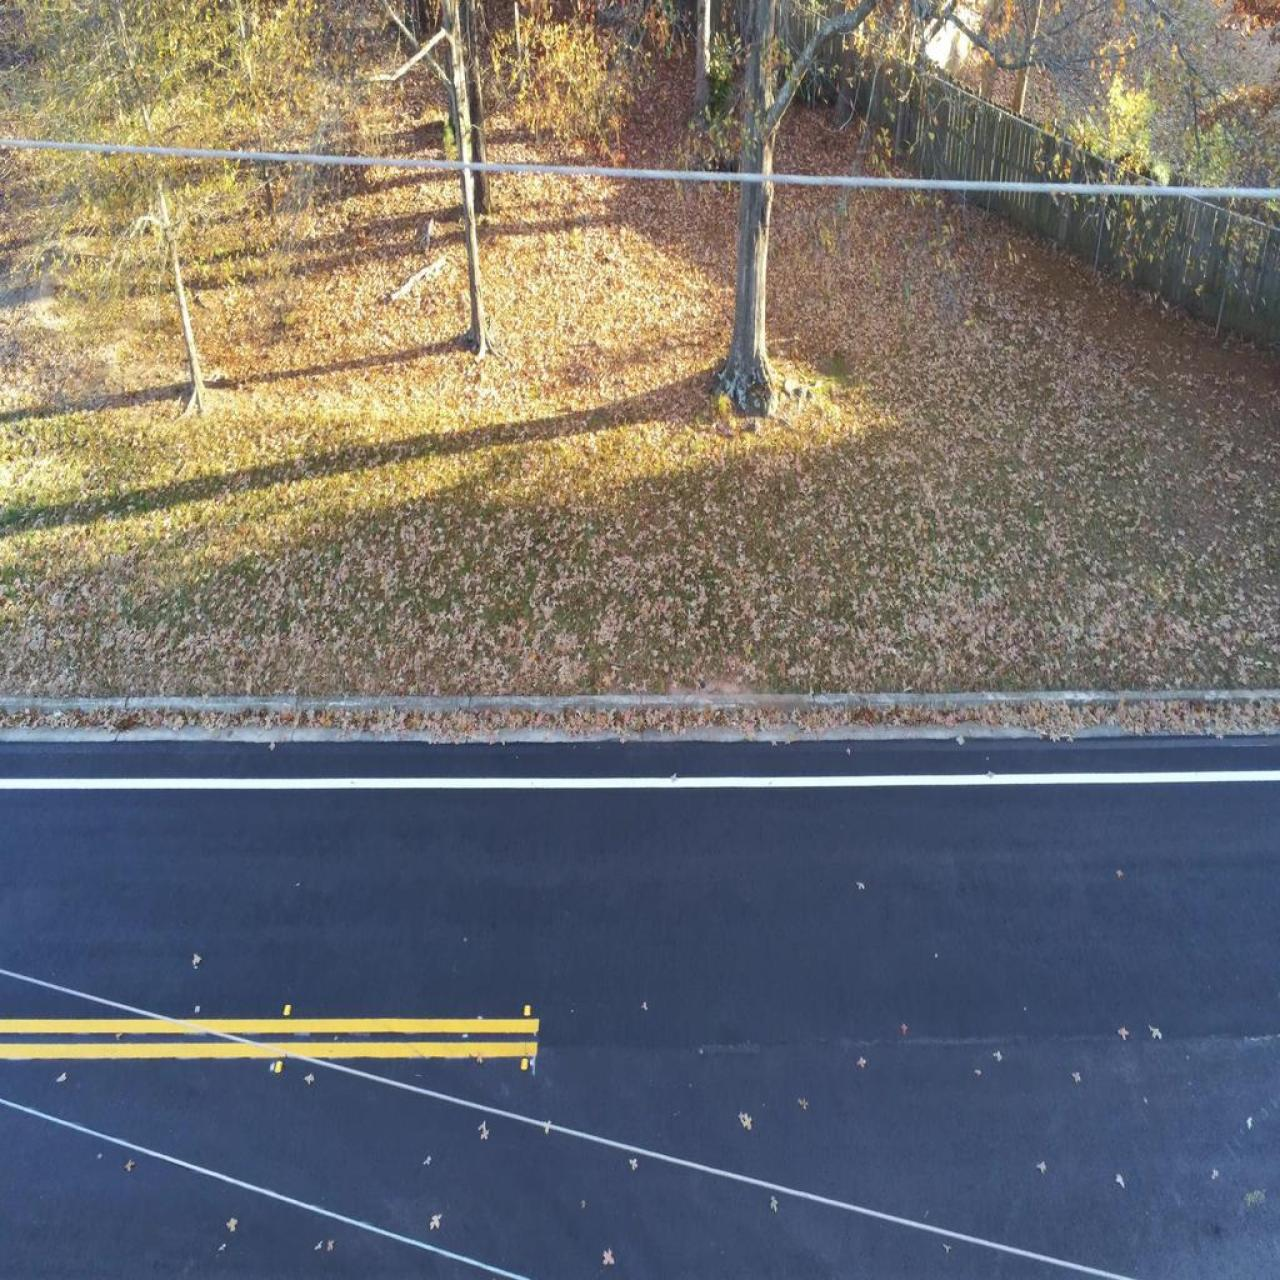cable: (0, 459, 301, 606), (0, 520, 141, 606), (0, 66, 341, 95)
